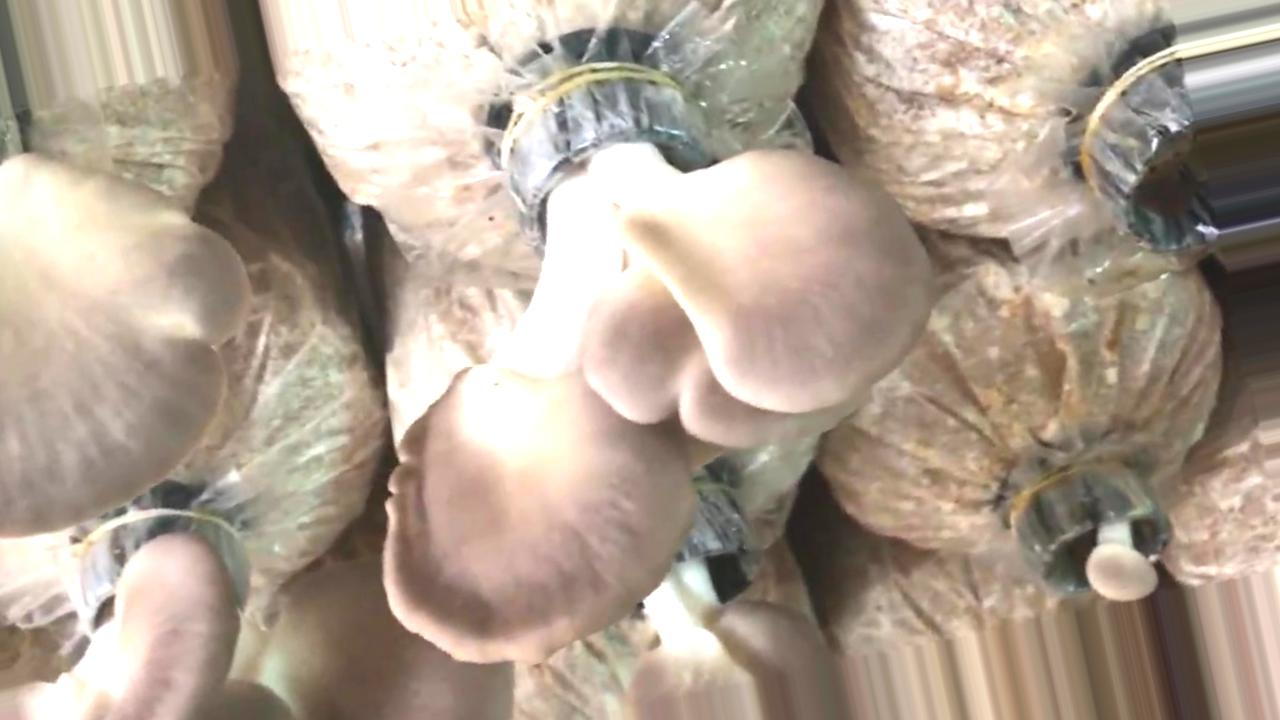nam: (384, 73, 932, 659), (5, 492, 510, 720), (1, 152, 247, 551), (630, 477, 842, 719), (1010, 464, 1190, 602)
